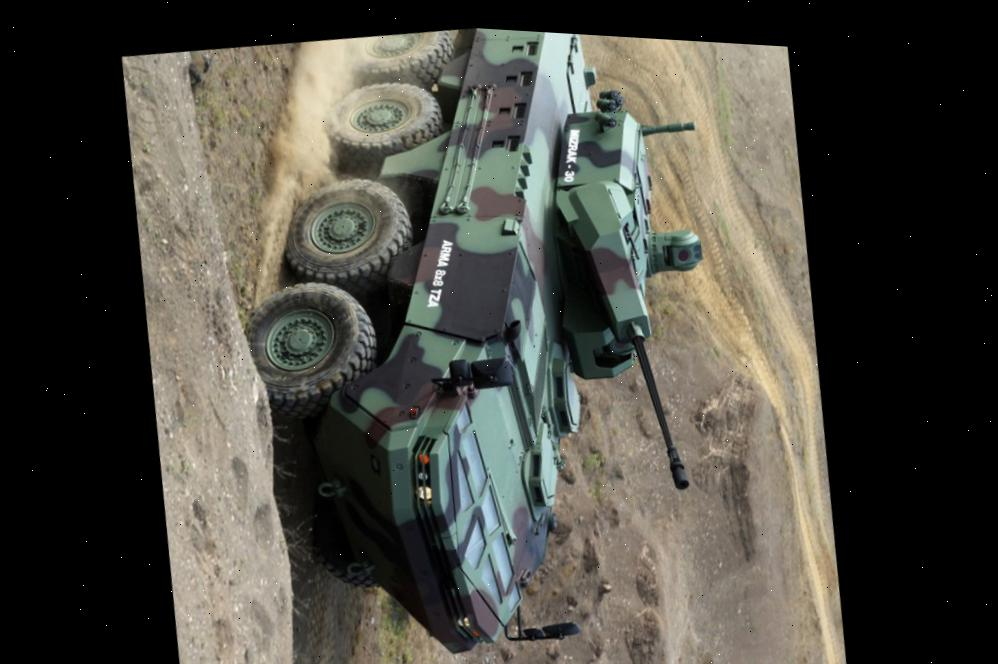armored_car: (204, 14, 782, 664)
